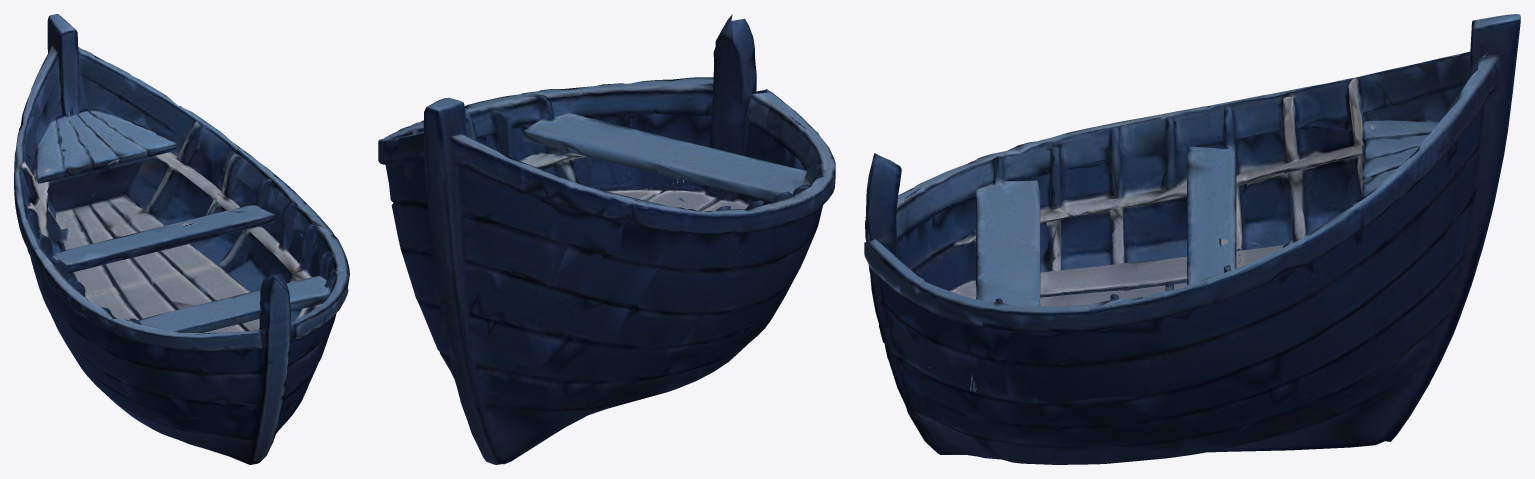
Rendered from rowboat.glb.
3 renders of one model, left to right at view 1: azimuth 30°, elevation 25°; view 2: azimuth 150°, elevation 25°; view 3: azimuth 270°, elevation 25°, orthographic. The views are drawn at different scales.
Parts seen in each view (by area): view 1: prop; view 2: prop; view 3: prop.
Part boxes in pixels (x1,y1,x2,y2): prop: (14,14,349,464); prop: (378,14,835,464); prop: (864,14,1520,464).
Size of the model in its own units: 0.9162 by 1 by 1.37.
1 material, 1 textured.
